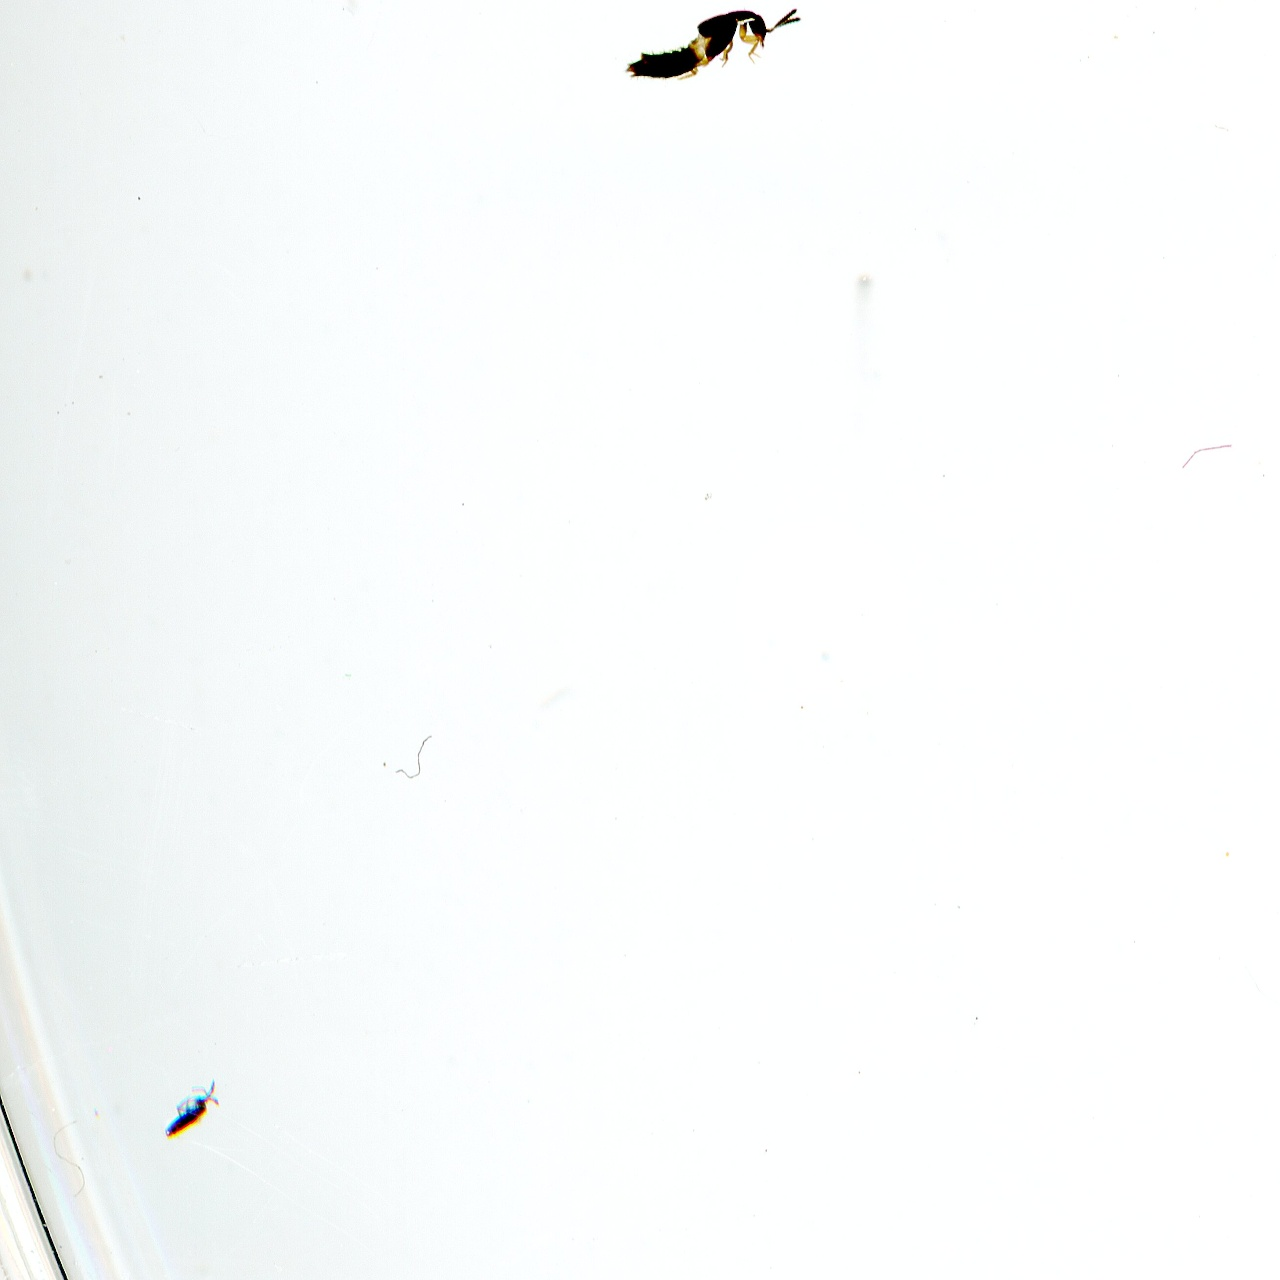arthropod: (621, 1, 804, 87), (149, 1071, 231, 1146)
